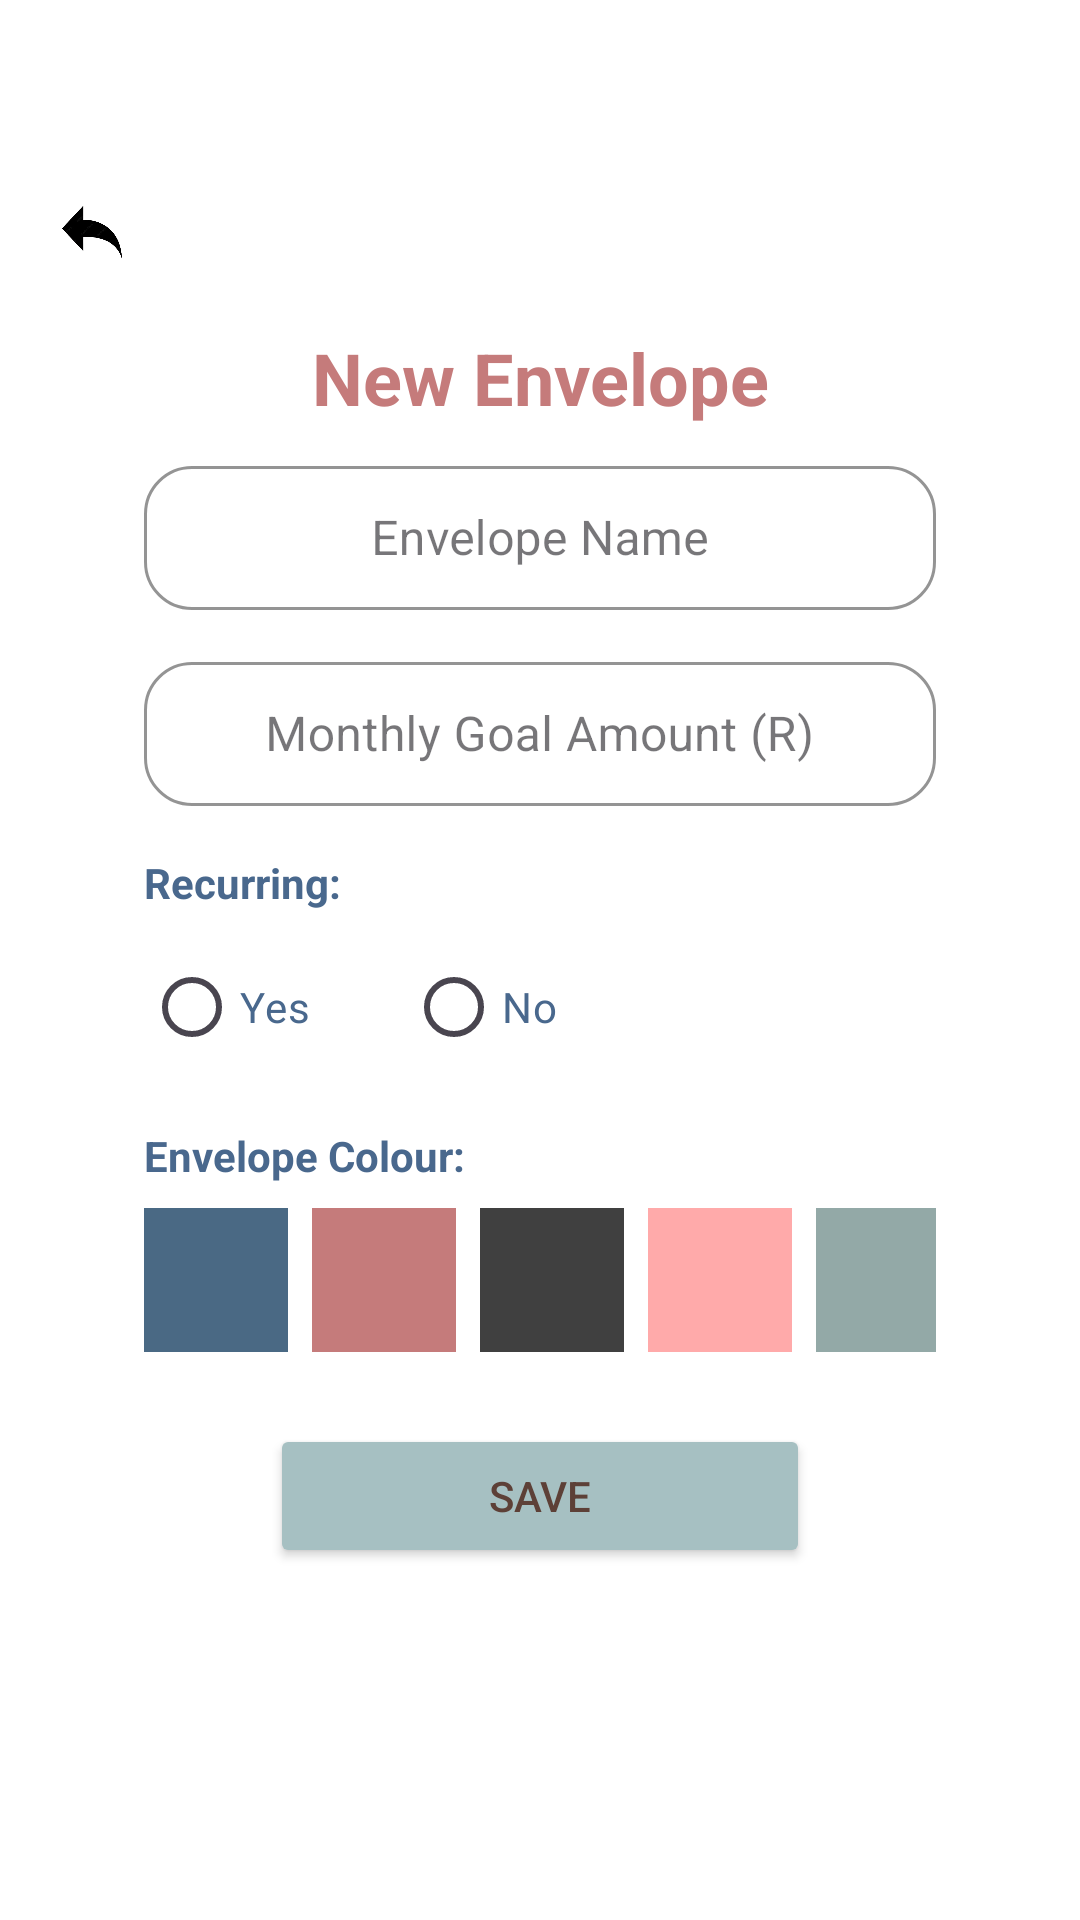

Point at icon controls on the screen. Image size 1080w x 1920h, points as [x,y].
back: [92,232]
